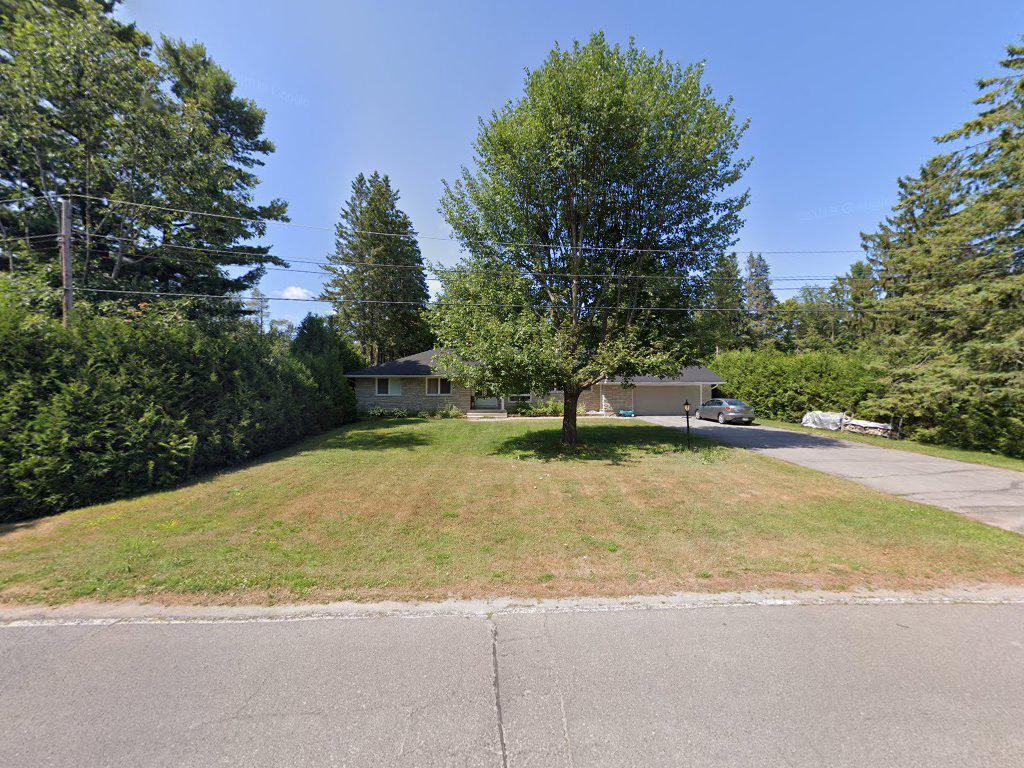trunk: (554, 367, 586, 454)
